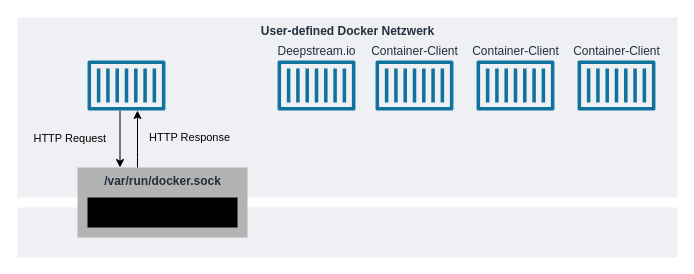
The diagram is 694 pixels wide and 274 high, and some of its shapes have lost their labels. The centre of each missing label's shape, as x and y in pixels:
"Container-Panel" belongs at point (126, 85).
"Docker API" belongs at point (162, 212).
"Docker Engine" belongs at point (347, 232).
